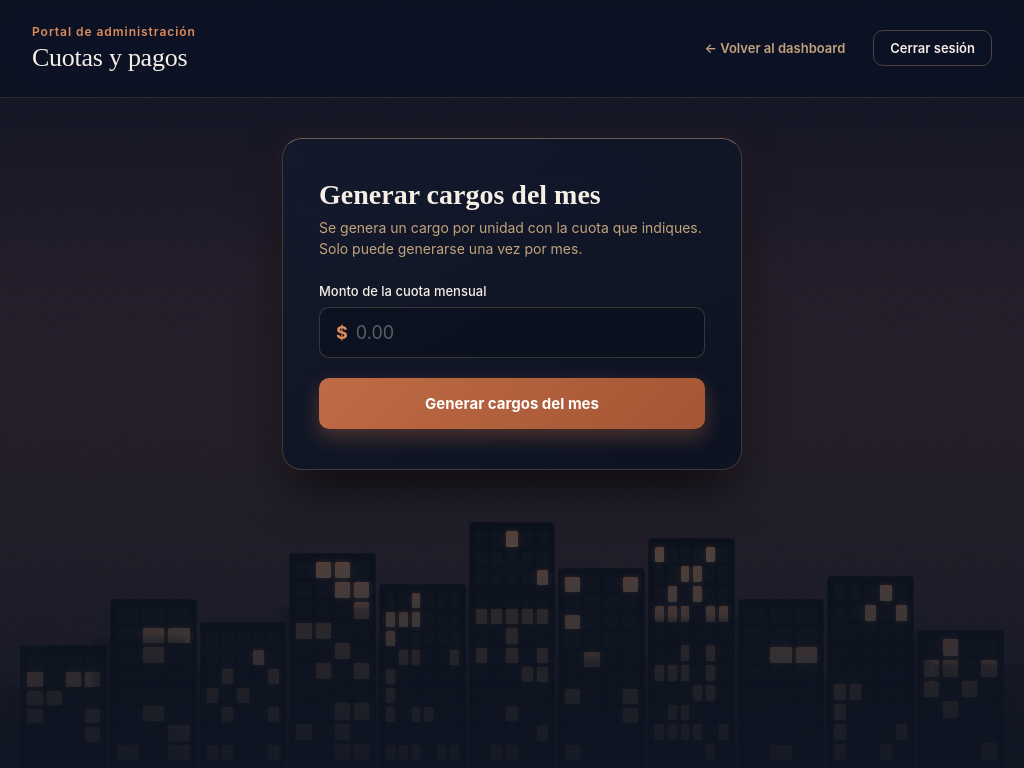
Test: CU-06 GenerarCargosPage › genera los cargos y muestra el resumen
This screenshot has width=1024, height=768.
Type "1500" into the field labelled "Monto de la cuota mensual $" at (522, 332), box [356,308,688,357]
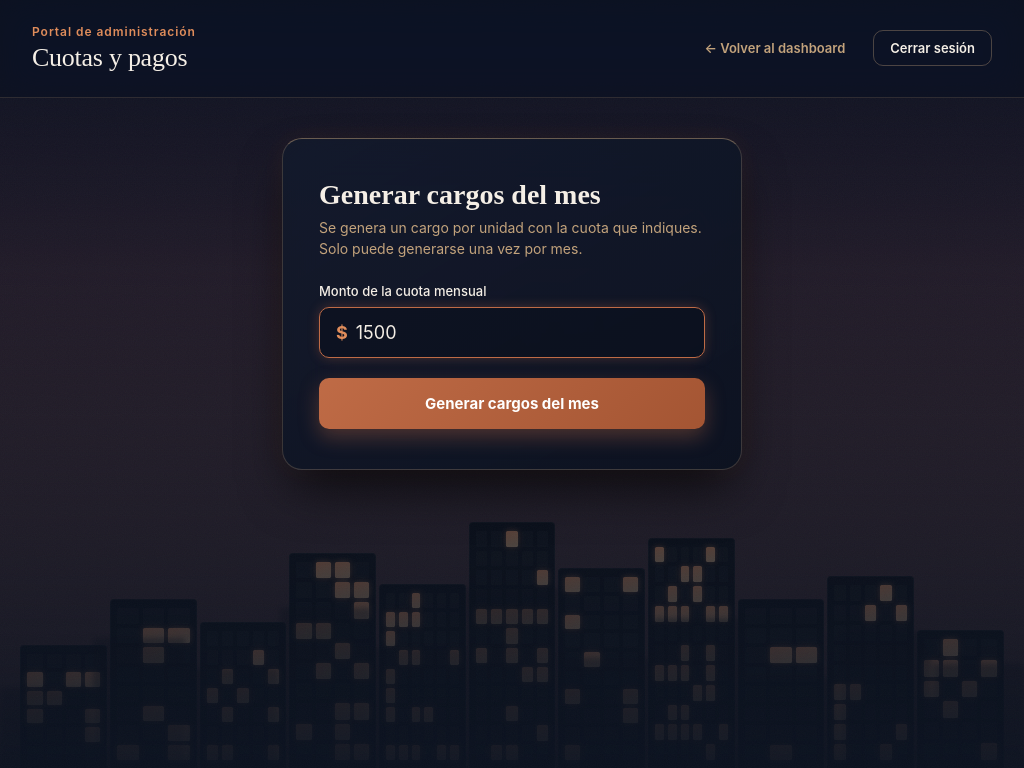
Click the button "Generar cargos del mes" at (512, 403), box [319,378,705,429]
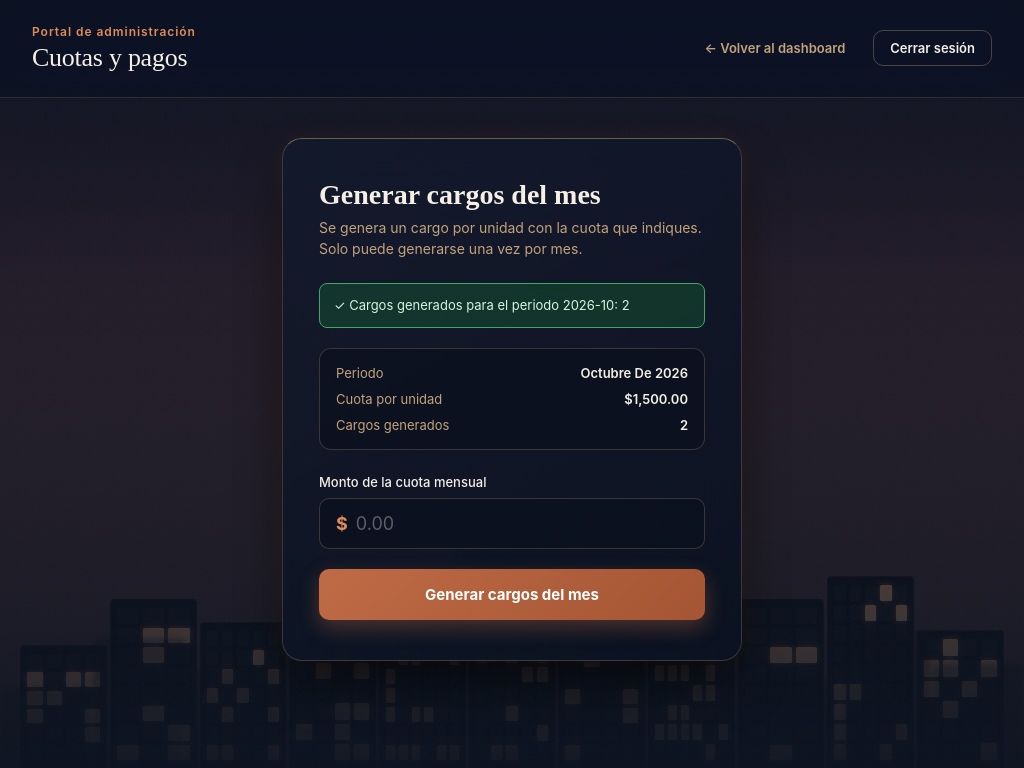
Expected: the message shows "Cargos generados para el periodo 2026-10: 2", [349,297,630,313]
Expected: the text "$1,500.00" is shown, [624,391,688,407]
Expected: the text "2" is shown, [680,417,688,433]
